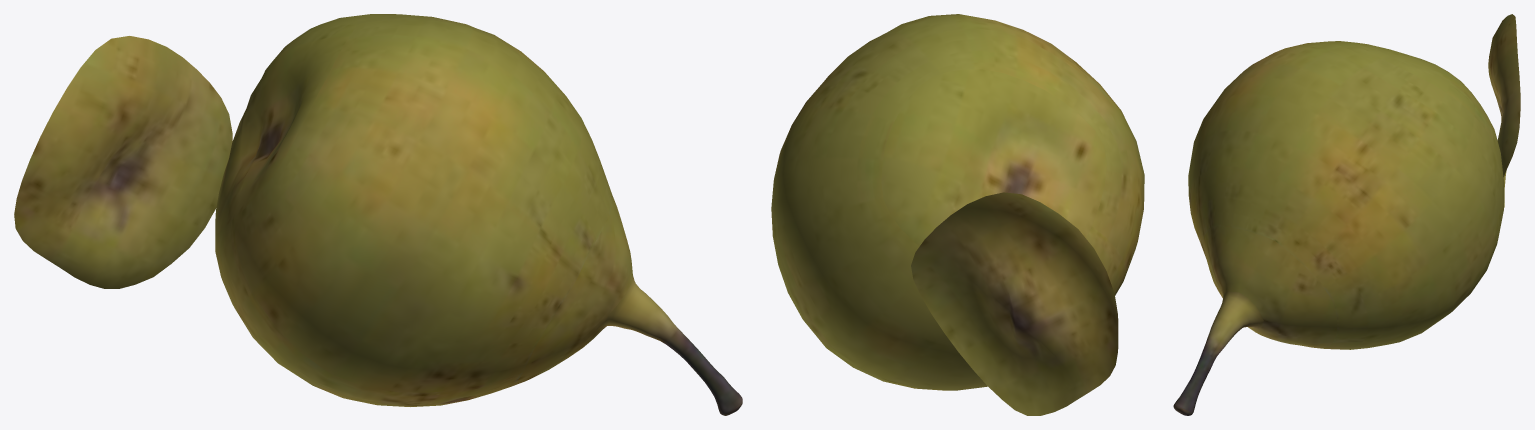
The model's file is pear.glb.
The picture shows the model from 3 angles, left to right: view 1: azimuth 30°, elevation 25°; view 2: azimuth 150°, elevation 25°; view 3: azimuth 270°, elevation 25°; orthographic projection. The views are drawn at different scales.
Visible parts, largest first — view 1: pear_body; view 2: pear_body; view 3: pear_body.
Part boxes in pixels (<box>): pear_body: <box>14,14,742,415</box>; pear_body: <box>771,14,1144,415</box>; pear_body: <box>1173,14,1520,415</box>.
Size of the model in its own units: 0.2 by 0.1345 by 0.1502.
Materials: 1 (1 with a texture image).
